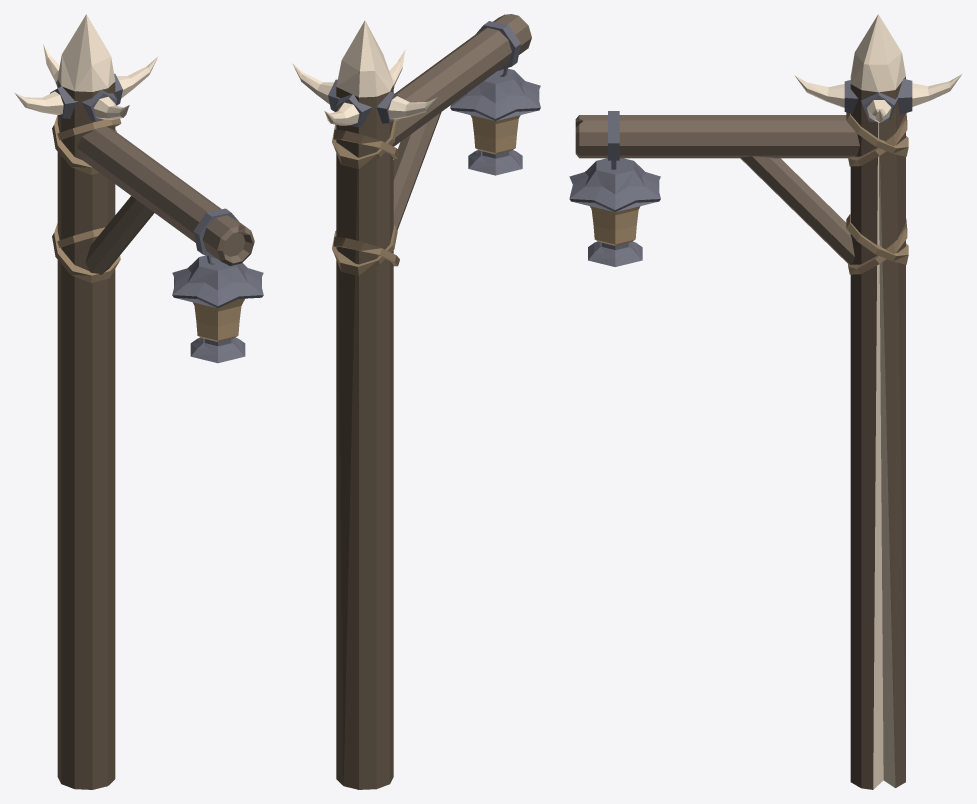
File: lamP_1.fbx
3 views of the same model, side by side, from view 1: azimuth 30°, elevation 25°; view 2: azimuth 150°, elevation 25°; view 3: azimuth 270°, elevation 25° (orthographic).
Parts seen in each view (by area): view 1: lamp_1; view 2: lamp_1; view 3: lamp_1.
Part boxes in pixels (x1,y1,x2,y2): lamp_1: (15,14,263,789); lamp_1: (292,14,540,789); lamp_1: (569,14,961,789).
Bounding box in the file's own units: 75.66 × 379 × 177.
